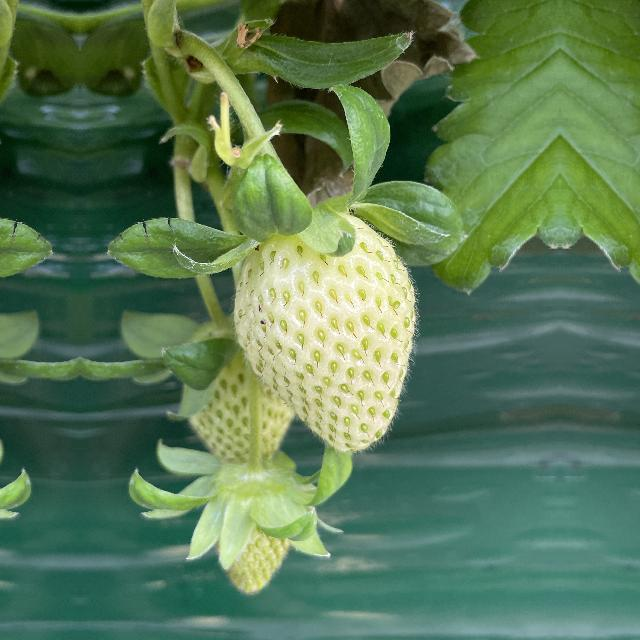Health_25: (226, 205, 427, 463)
